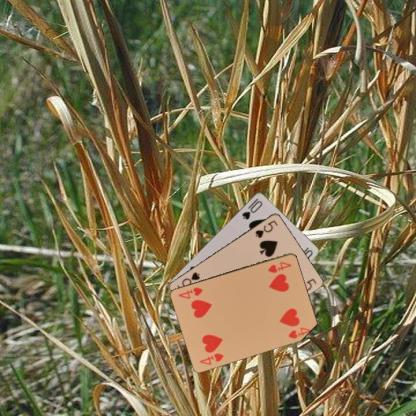10s: (239, 195, 264, 221)
4h: (196, 350, 226, 366), (265, 259, 292, 274)
5s: (252, 217, 280, 239)
